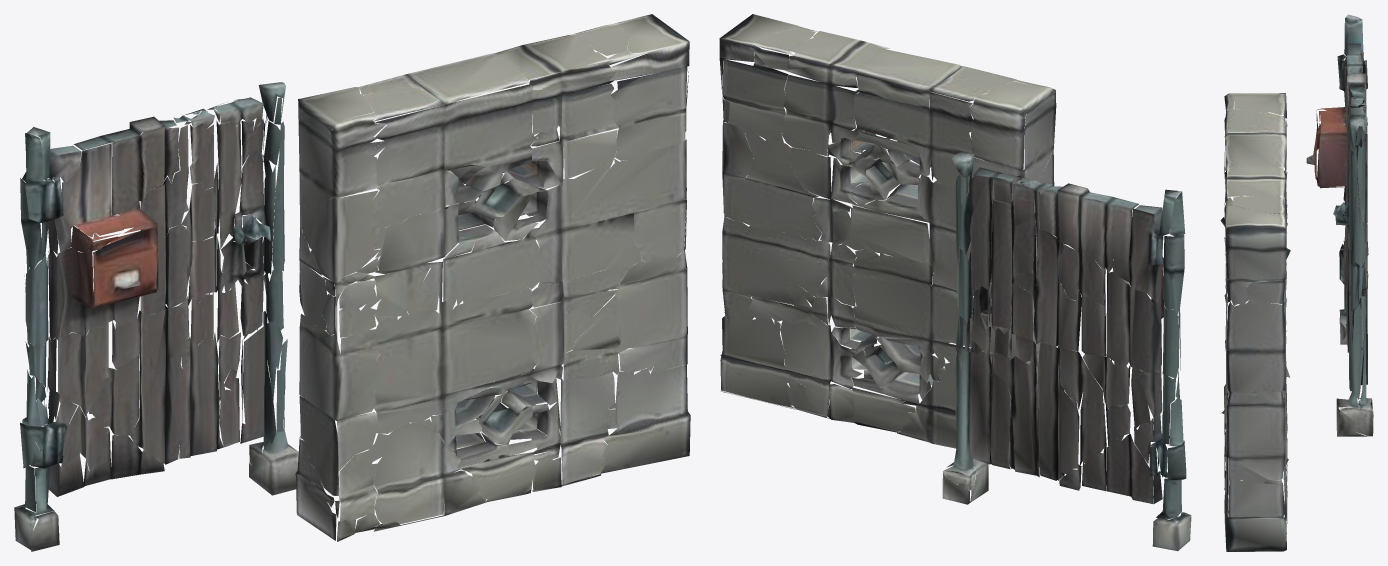
File: infra18.glb
The picture shows the model from 3 angles, left to right: view 1: azimuth 30°, elevation 25°; view 2: azimuth 150°, elevation 25°; view 3: azimuth 270°, elevation 25°; orthographic projection. The views are drawn at different scales.
Parts seen in each view (by area): view 1: tripo_node_fdc28562-ad63-41eb-ac31-6849c5e78993; view 2: tripo_node_fdc28562-ad63-41eb-ac31-6849c5e78993; view 3: tripo_node_fdc28562-ad63-41eb-ac31-6849c5e78993.
Part boxes in pixels (left/top/right/bottom): tripo_node_fdc28562-ad63-41eb-ac31-6849c5e78993: left=14, top=14, right=690, bottom=551; tripo_node_fdc28562-ad63-41eb-ac31-6849c5e78993: left=719, top=14, right=1191, bottom=551; tripo_node_fdc28562-ad63-41eb-ac31-6849c5e78993: left=1220, top=14, right=1373, bottom=551.
Bounding box in the file's own units: 0.9971 × 0.687 × 0.2882.
Materials: 1 (1 with a texture image).
